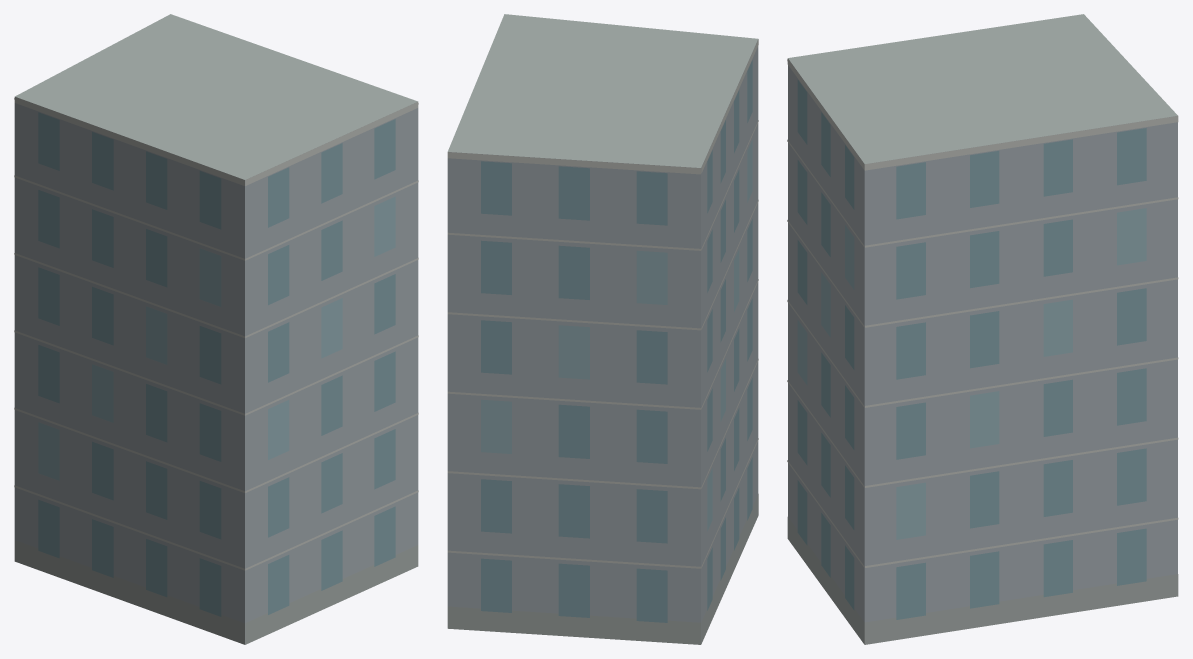
File: survey-upis-32747630.glb
3 views of the same model, side by side, from view 1: azimuth 30°, elevation 25°; view 2: azimuth 150°, elevation 25°; view 3: azimuth 270°, elevation 25° (orthographic). The views are drawn at different scales.
Parts seen in each view (by area): view 1: survey-upis-32747630.tmp; view 2: survey-upis-32747630.tmp; view 3: survey-upis-32747630.tmp.
Part boxes in pixels (bbox=[...]): survey-upis-32747630.tmp: bbox=[14, 14, 418, 644]; survey-upis-32747630.tmp: bbox=[447, 14, 758, 644]; survey-upis-32747630.tmp: bbox=[787, 14, 1178, 644].
Bounding box in the file's own units: 12.21 × 18.19 × 13.41.
